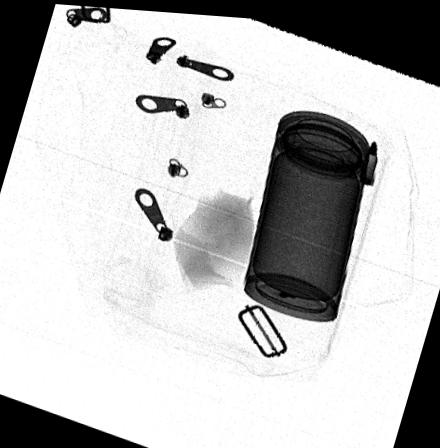Bullet: (360, 133, 379, 182)
